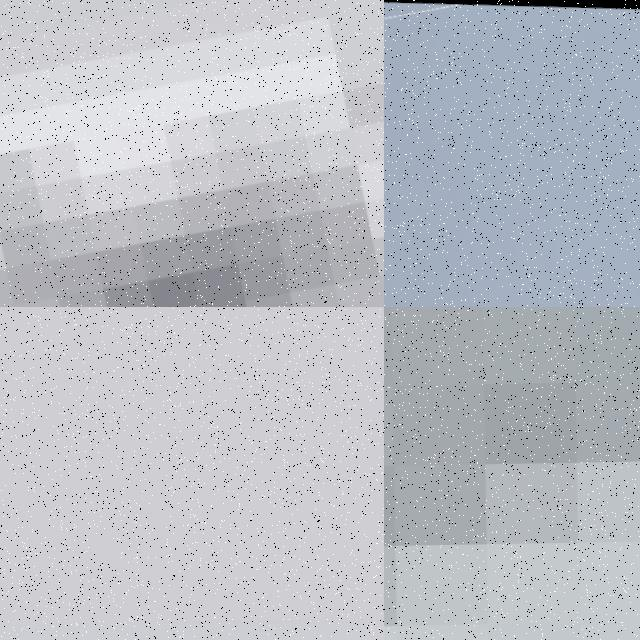drone: (0, 0, 384, 307), (384, 0, 640, 307)
